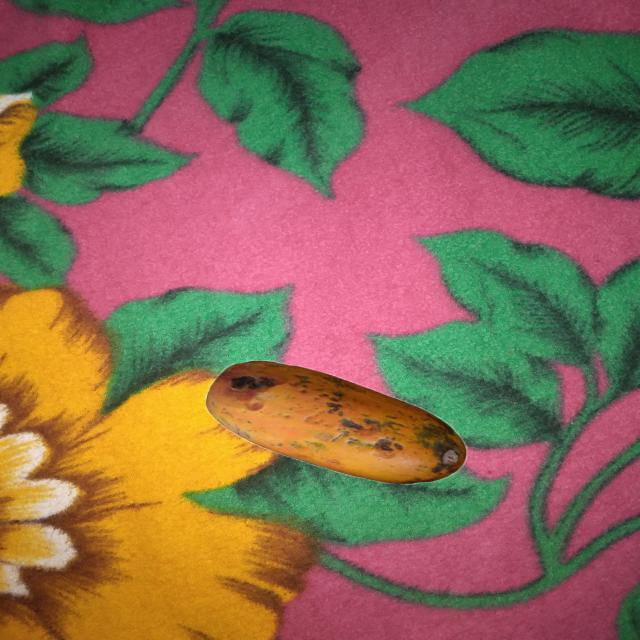Pepaya rippen: (205, 355, 484, 496)
